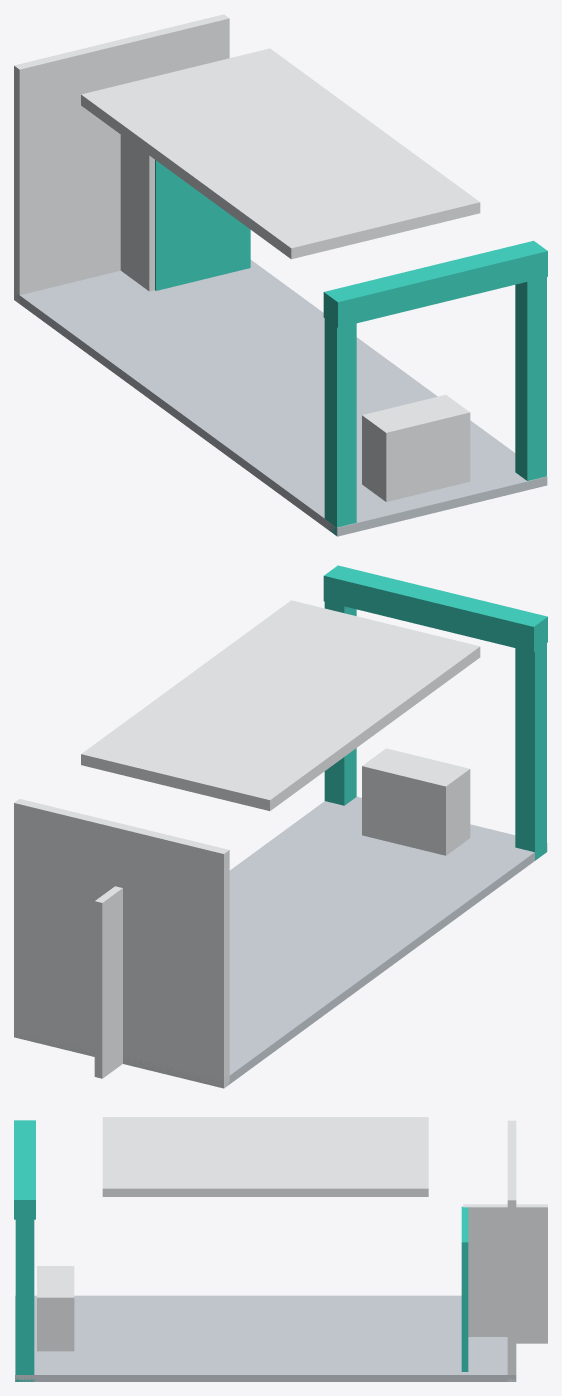
3 renders of one model, top to bottom at view 1: azimuth 30°, elevation 25°; view 2: azimuth 150°, elevation 25°; view 3: azimuth 270°, elevation 25°, orthographic. The views are drawn at different scales.
Parts seen in each view (by area): view 1: Exhibition Booth Concept; view 2: Exhibition Booth Concept; view 3: Exhibition Booth Concept.
Boxes of the visible parts, bbox=[...] form: Exhibition Booth Concept: bbox=[14, 14, 547, 536]; Exhibition Booth Concept: bbox=[14, 565, 547, 1088]; Exhibition Booth Concept: bbox=[14, 1117, 547, 1381].
Size of the model in its own units: 3 by 3.34 by 8.52.
